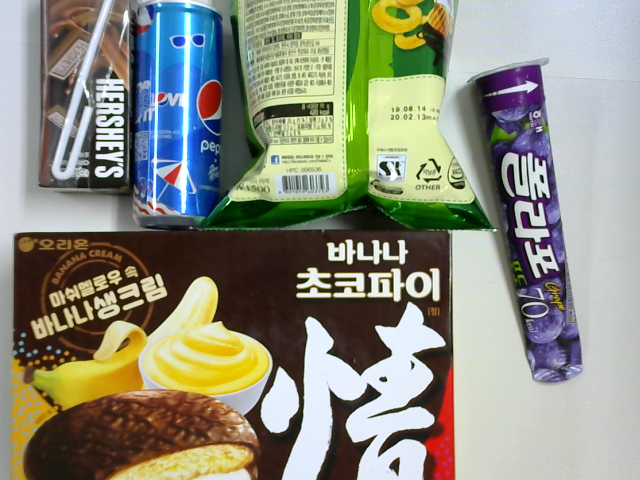Choco_Pie_Banana: (11, 227, 456, 480)
Grilled_Onions: (198, 1, 491, 236)
Hush_Choco_Drink: (40, 1, 137, 198)
Pepsi_Cola_Can_250ml: (133, 1, 230, 232)
Polapo_Grape: (466, 57, 587, 384)
